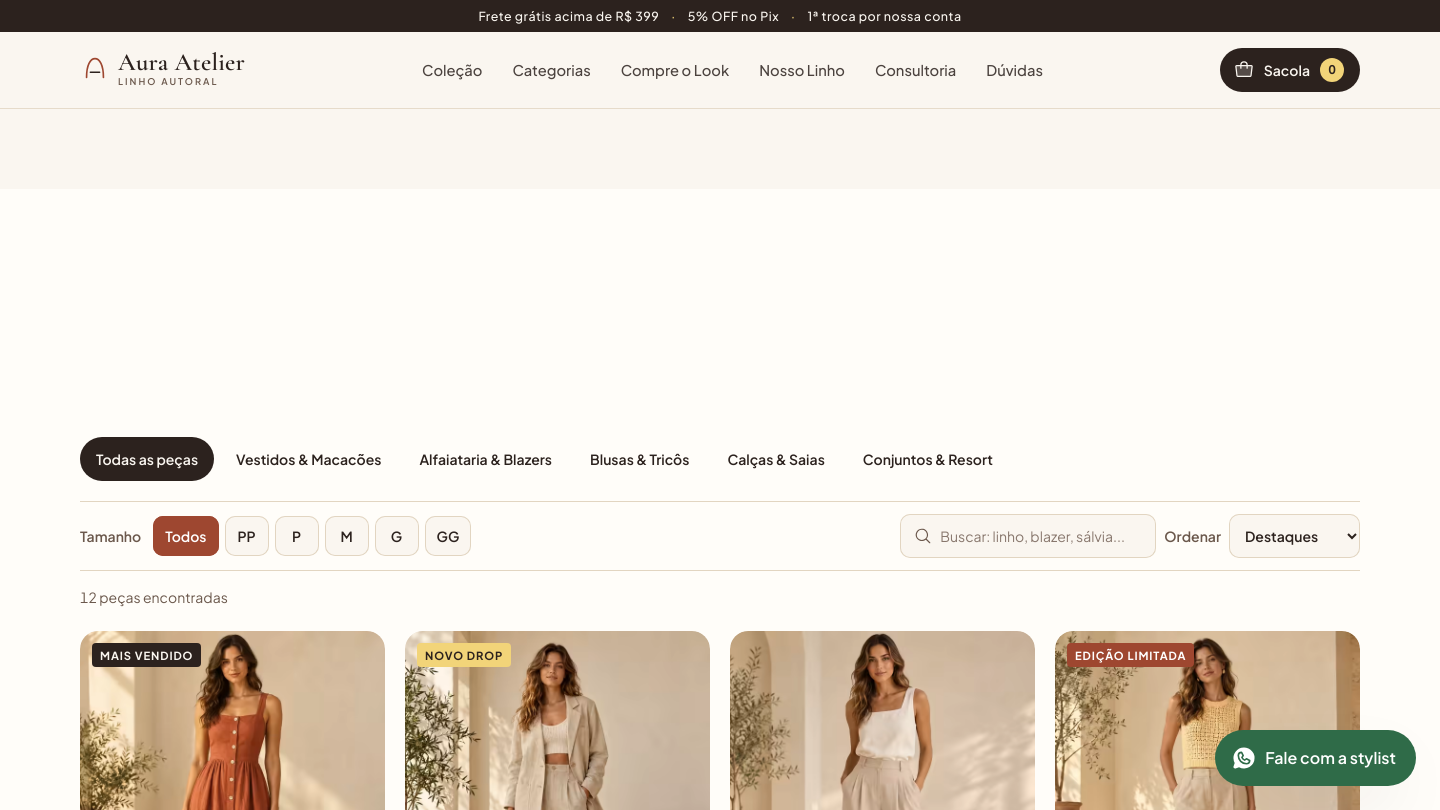
Test: fluxo da vitrine › filtro de categoria e tamanho reduz a vitrine e "Limpar filtros" restaura
The width and height of the screenshot is (1440, 810).
(page scrolled)
Click the button "Blusas & Tricôs" at [640, 459], box 574,437 -> 705,481
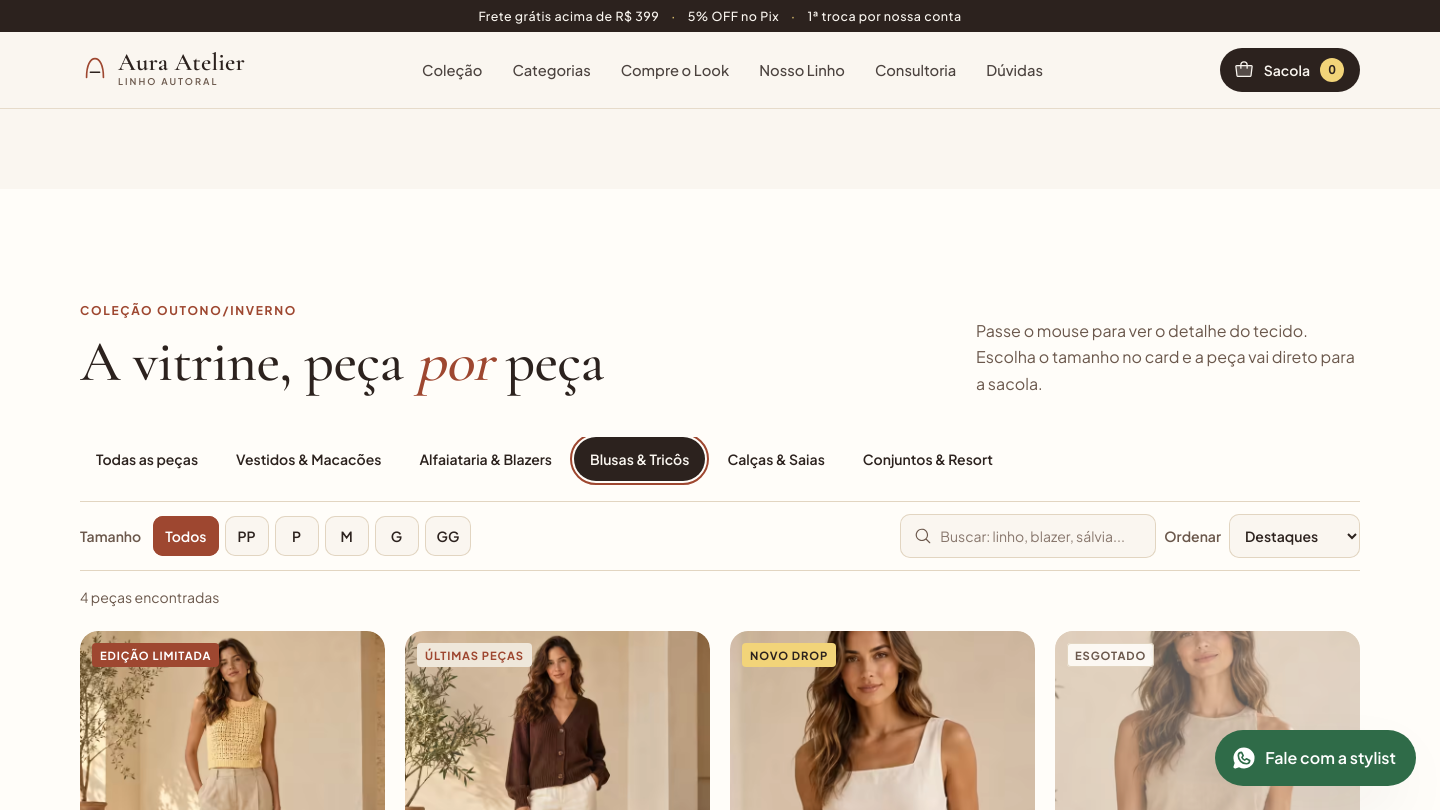
Click the button "GG" at [448, 536], box 424,516 -> 471,556
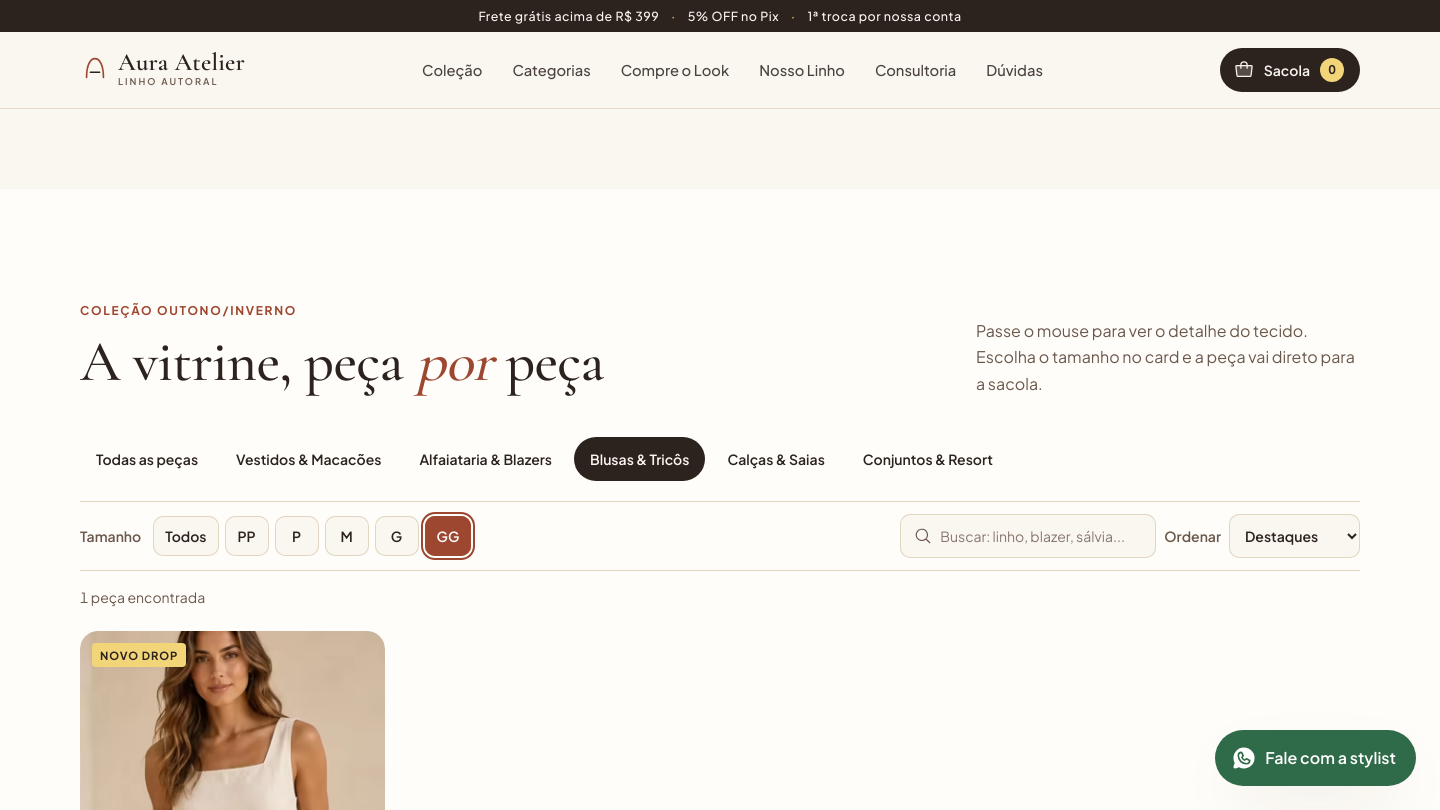
expect the text with test id "result-count" reads "1 peça encontrada": met, box 80,588 -> 205,606
Type "zzz" into the search field named "Buscar peça" at [1028, 536], box 900,514 -> 1156,558
(page scrolled)
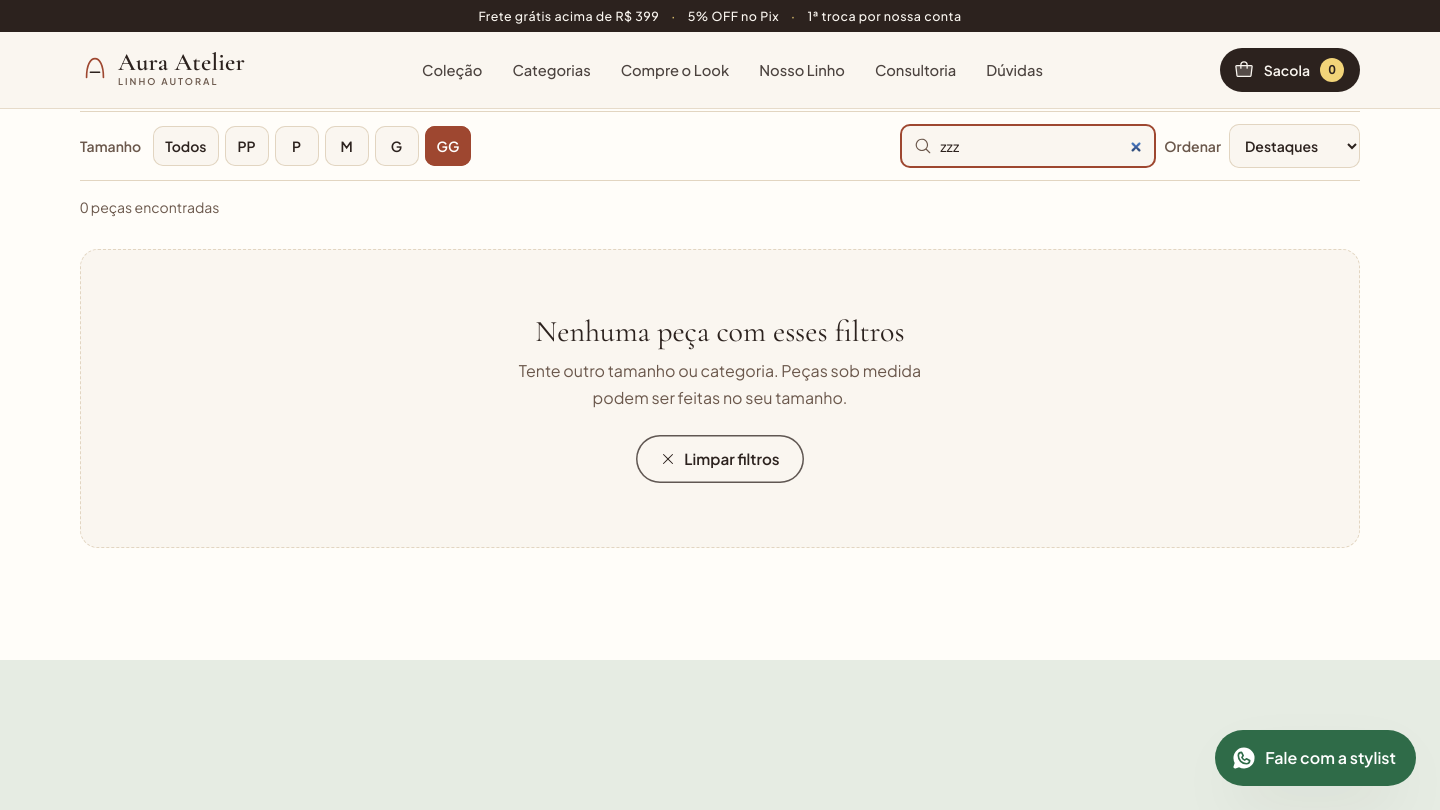
Click the button "Limpar filtros" at [720, 459], box 636,435 -> 804,483
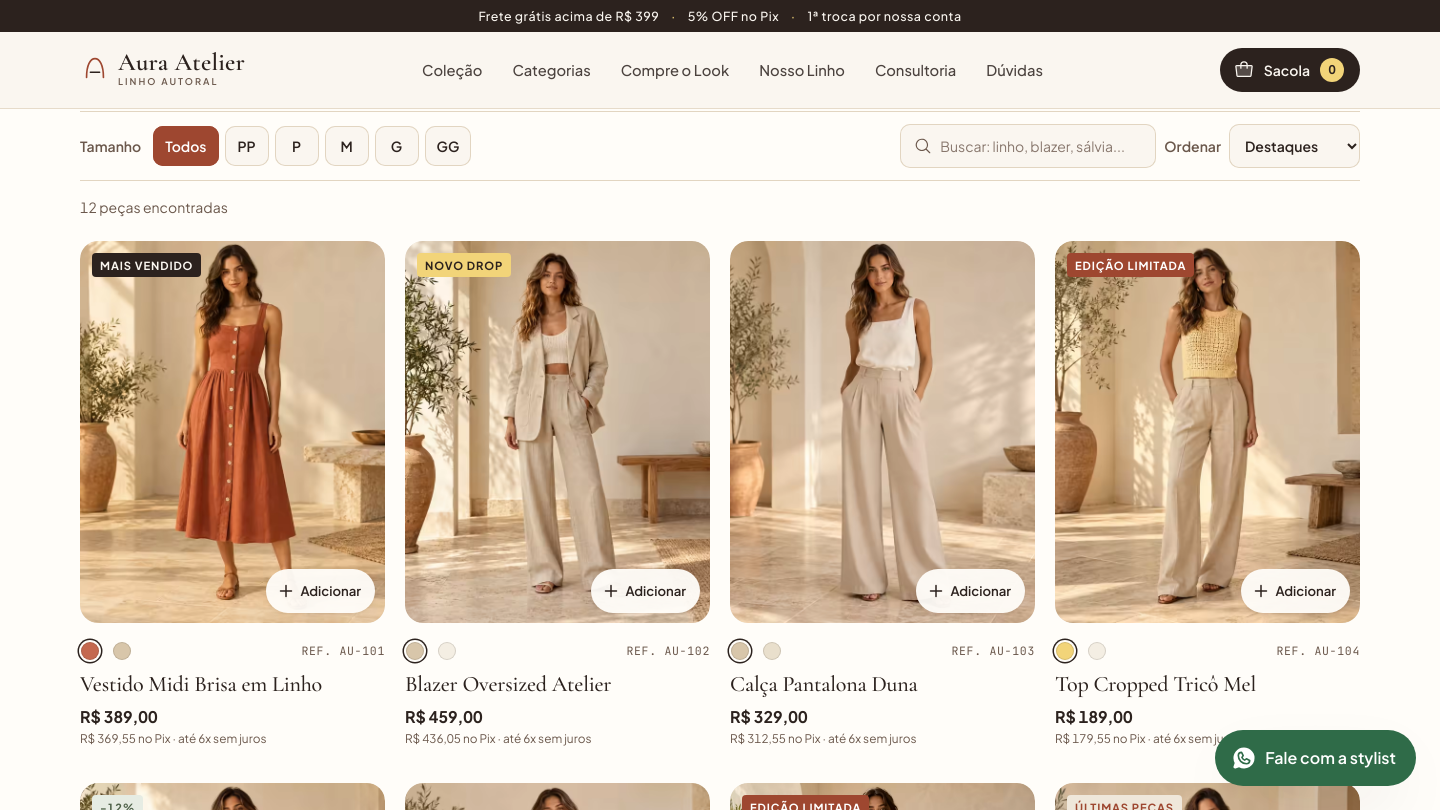
expect the text with test id "result-count" reads "12 peças encontradas": met, box 80,198 -> 228,216
